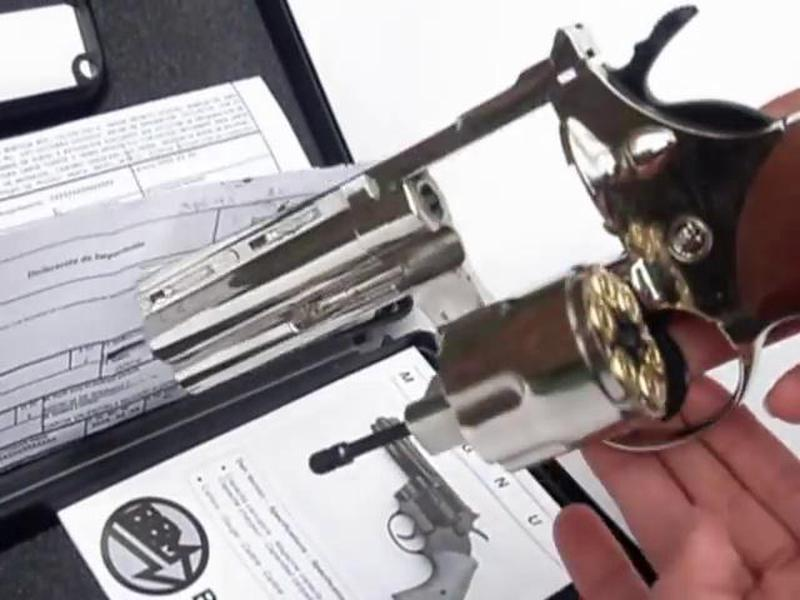Revolver: (111, 28, 800, 480)
